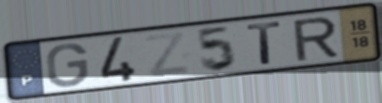4: (98, 34, 139, 84)
5: (195, 23, 238, 73)
G: (45, 41, 91, 89)
R: (290, 15, 341, 63)
T: (244, 19, 284, 67)
Z: (141, 29, 193, 80)
